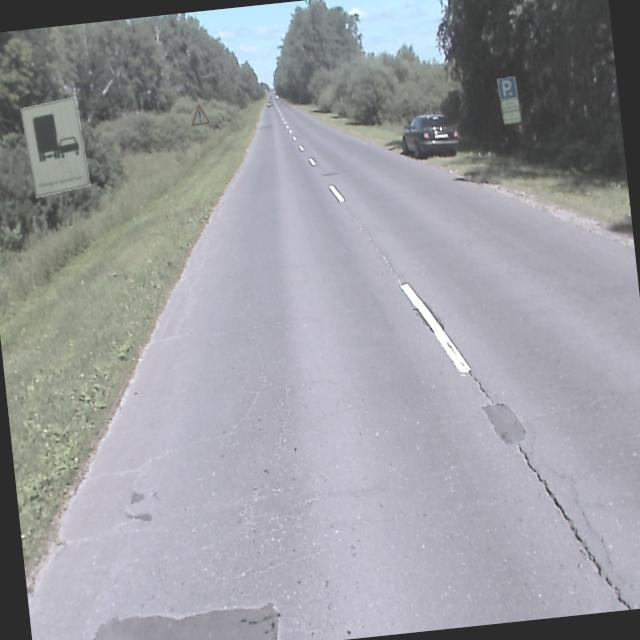road: (27, 99, 640, 640), (266, 92, 273, 97)
